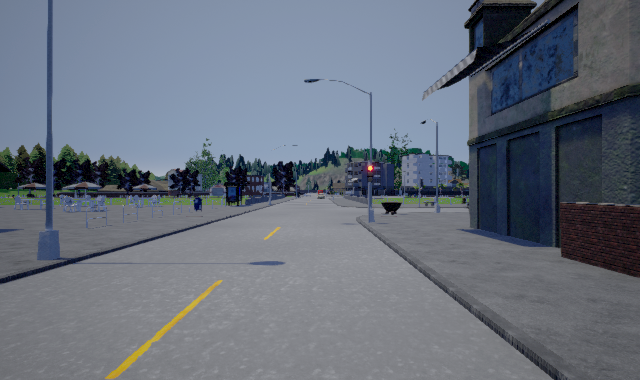traffic_light: (367, 162, 373, 186)
